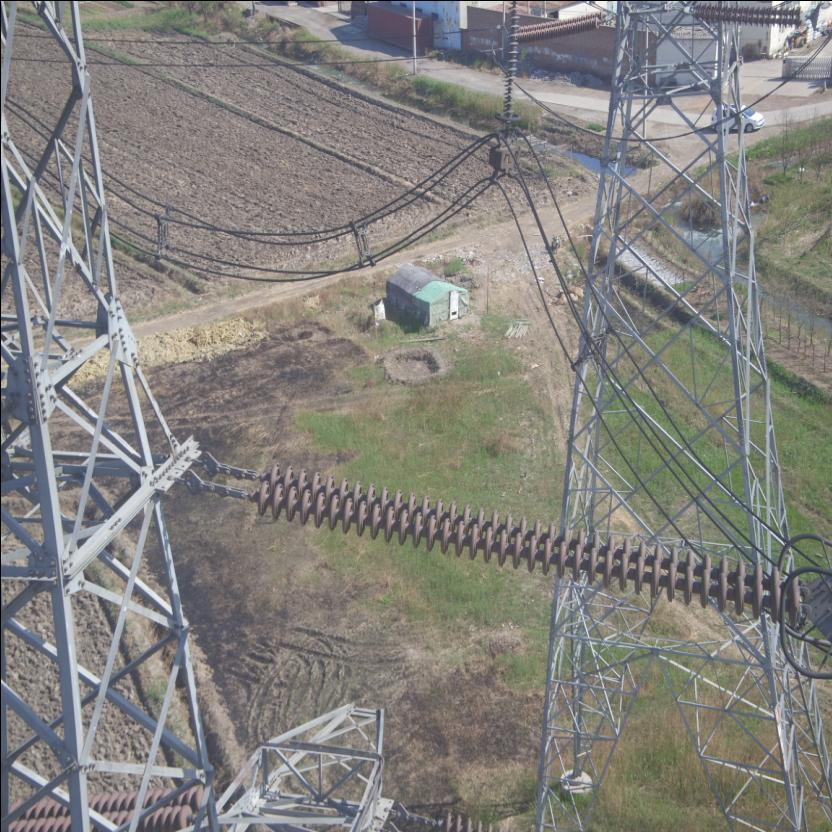insulator: (227, 460, 809, 627), (681, 1, 810, 26), (512, 8, 610, 40)
